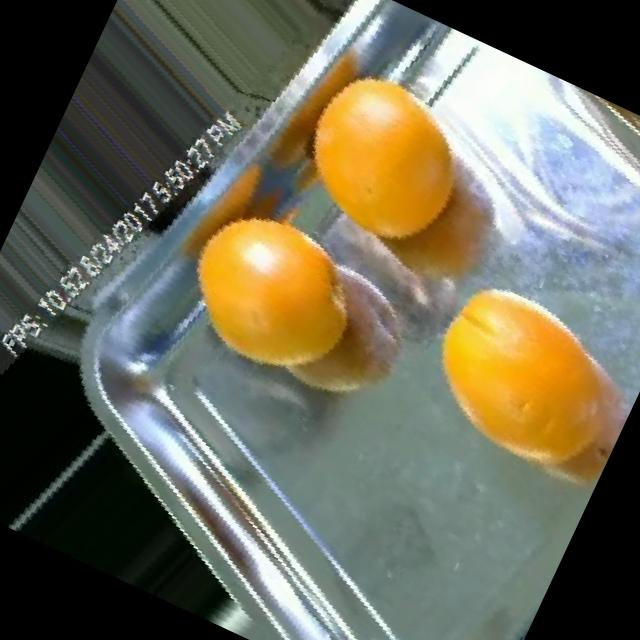Fruit: (248, 25, 534, 297), (378, 244, 640, 509)
